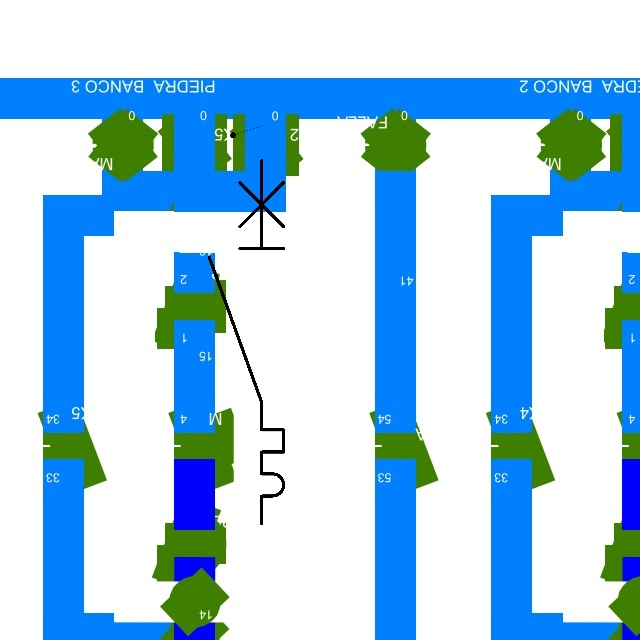interruptor_termomagnetico: (200, 151, 293, 533)
